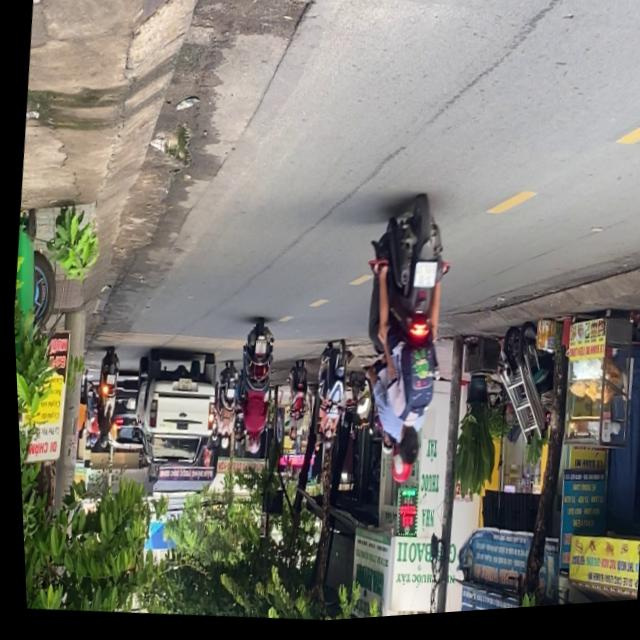helmet: (385, 456, 410, 489), (242, 435, 257, 457)
licenseplate: (338, 194, 462, 497), (226, 320, 279, 459)
motorcyclist: (391, 429, 418, 473)
nohelmet: (409, 266, 435, 295), (251, 341, 262, 356)
